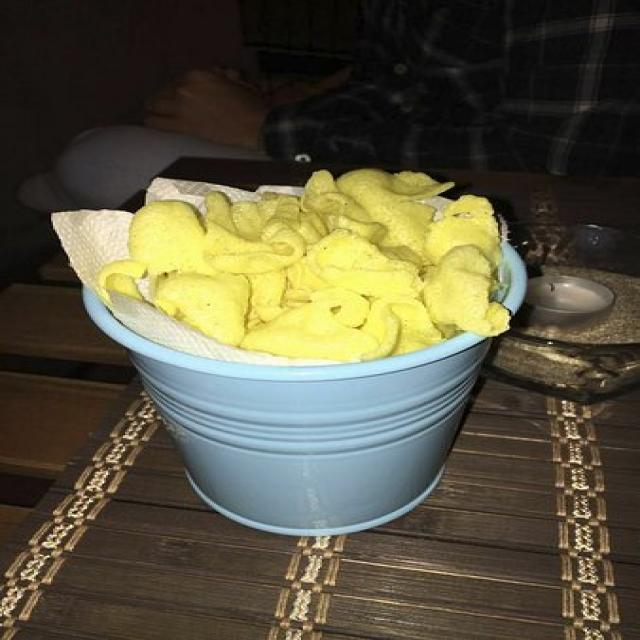Chips packaged: (129, 179, 506, 345)
